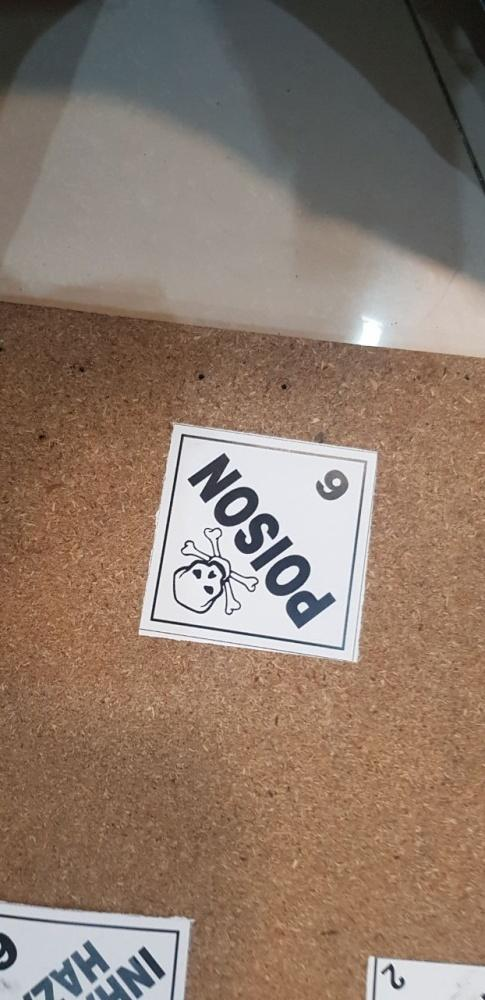poison: (137, 410, 381, 673), (1, 903, 204, 1000)
